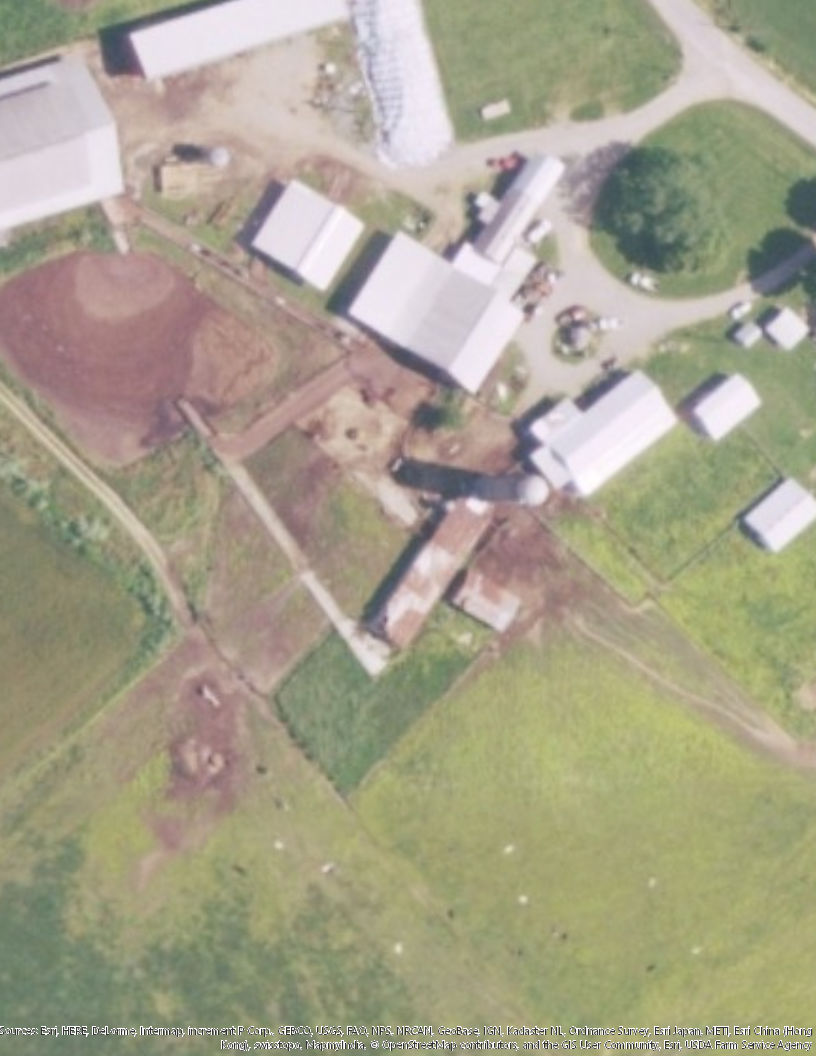cafo: (350, 135, 575, 398), (1, 50, 136, 234), (518, 363, 681, 505), (120, 1, 355, 85), (244, 175, 363, 294), (738, 471, 816, 553), (695, 366, 761, 439)
